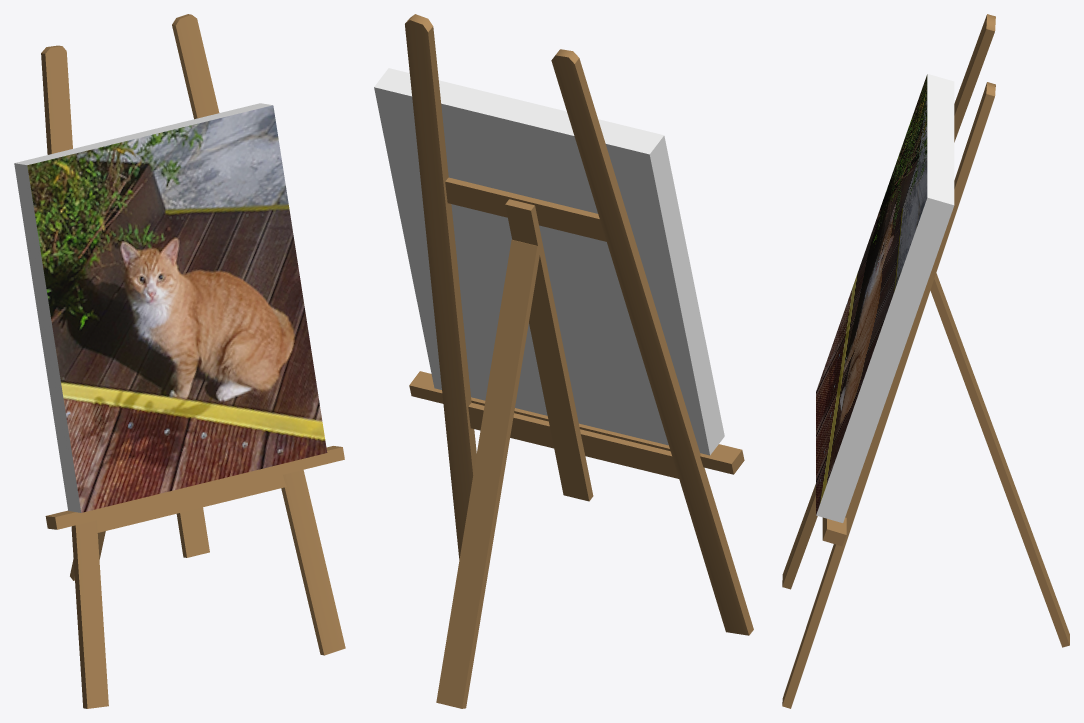
Rendered from ajoumeo_7.fbx.
The picture shows the model from 3 angles, left to right: view 1: azimuth 30°, elevation 25°; view 2: azimuth 150°, elevation 25°; view 3: azimuth 270°, elevation 25°; orthographic projection. The views are drawn at different scales.
Visible parts, largest first — view 1: ajoumeo_07; view 2: ajoumeo_07; view 3: ajoumeo_07.
Boxes of the visible parts, x1=… form: ajoumeo_07: x1=14, y1=14, x2=345, y2=708; ajoumeo_07: x1=374, y1=14, x2=753, y2=708; ajoumeo_07: x1=782, y1=14, x2=1069, y2=708.
Size of the model in its own units: 0.0762 by 0.1469 by 0.064.
1 material, 1 textured.
